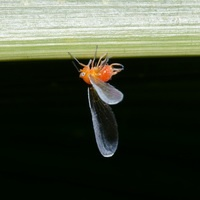insect: (69, 48, 123, 156)
